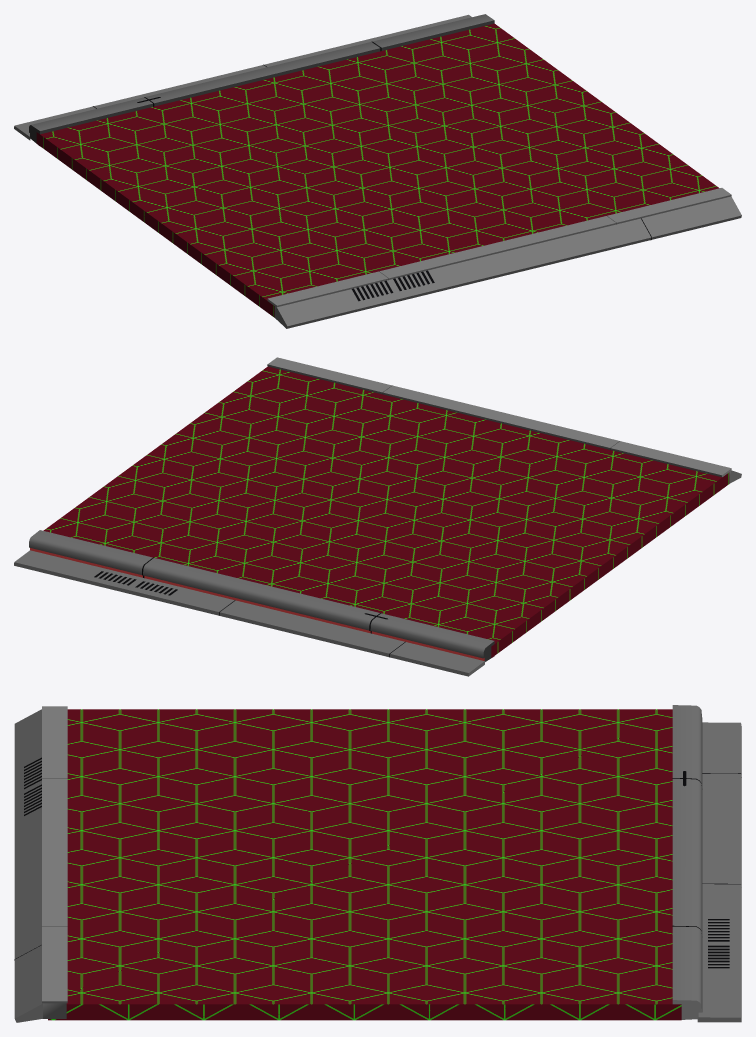
File: Floor_add_02_straight_4m.fbx
3 renders of one model, top to bottom at view 1: azimuth 30°, elevation 25°; view 2: azimuth 150°, elevation 25°; view 3: azimuth 270°, elevation 25°, orthographic. The views are drawn at different scales.
Visible parts, largest first — view 1: Floor_add_02_straight_4m; view 2: Floor_add_02_straight_4m; view 3: Floor_add_02_straight_4m.
Part boxes in pixels (<box>): Floor_add_02_straight_4m: <box>14,14,741,328</box>; Floor_add_02_straight_4m: <box>14,357,741,676</box>; Floor_add_02_straight_4m: <box>14,705,741,1022</box>.
Size of the model in its own units: 4 by 0.1475 by 4.17.
